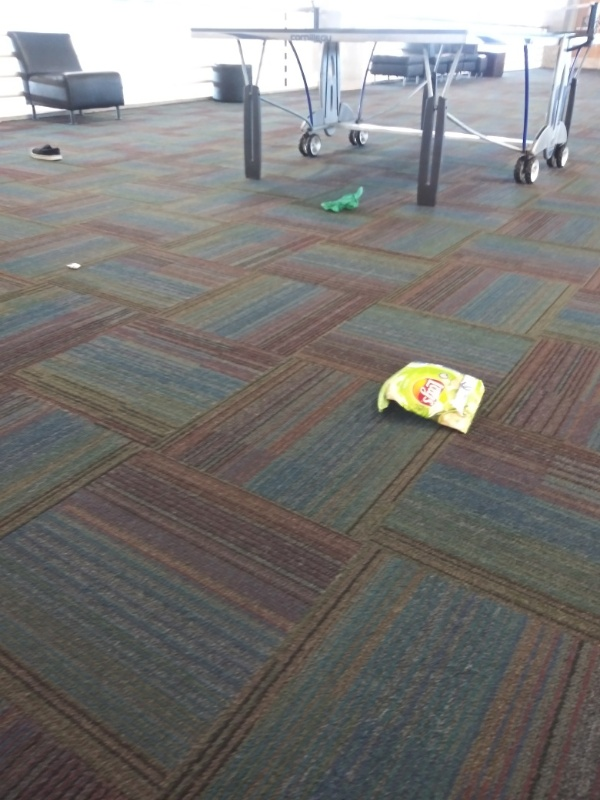bag: (372, 357, 489, 440)
